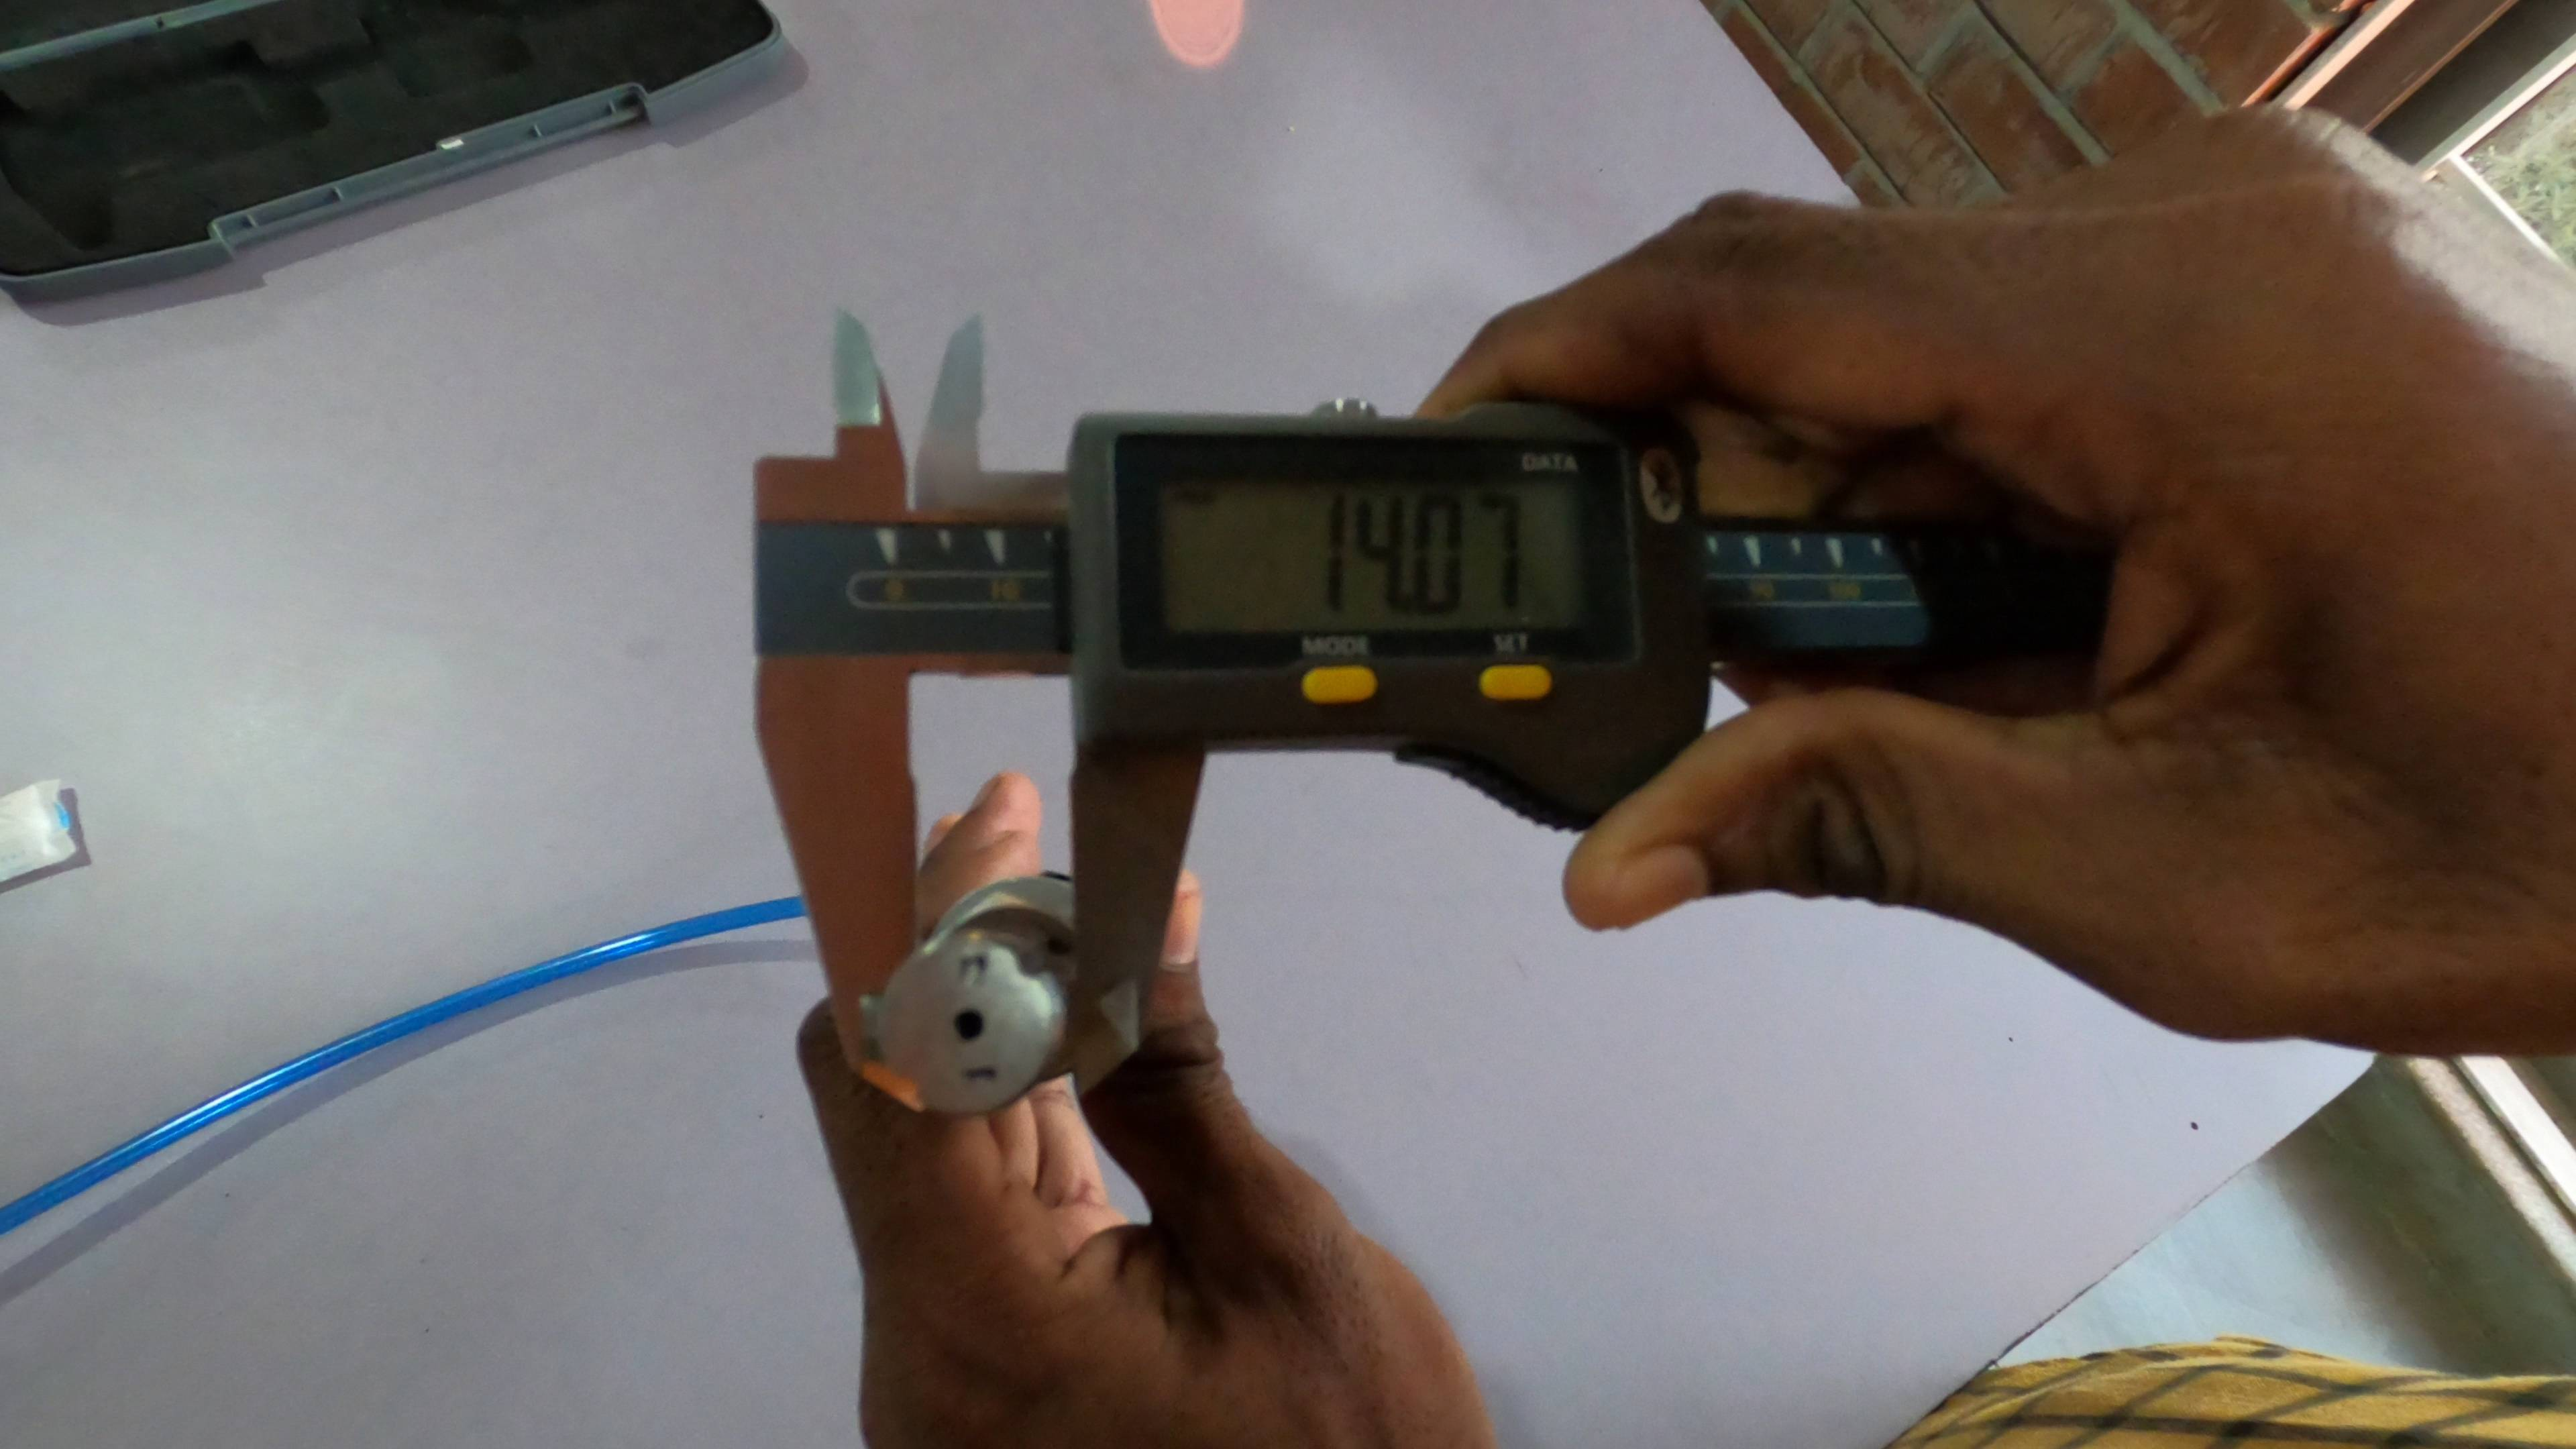vernier_caliper: (757, 308, 2063, 1116)
